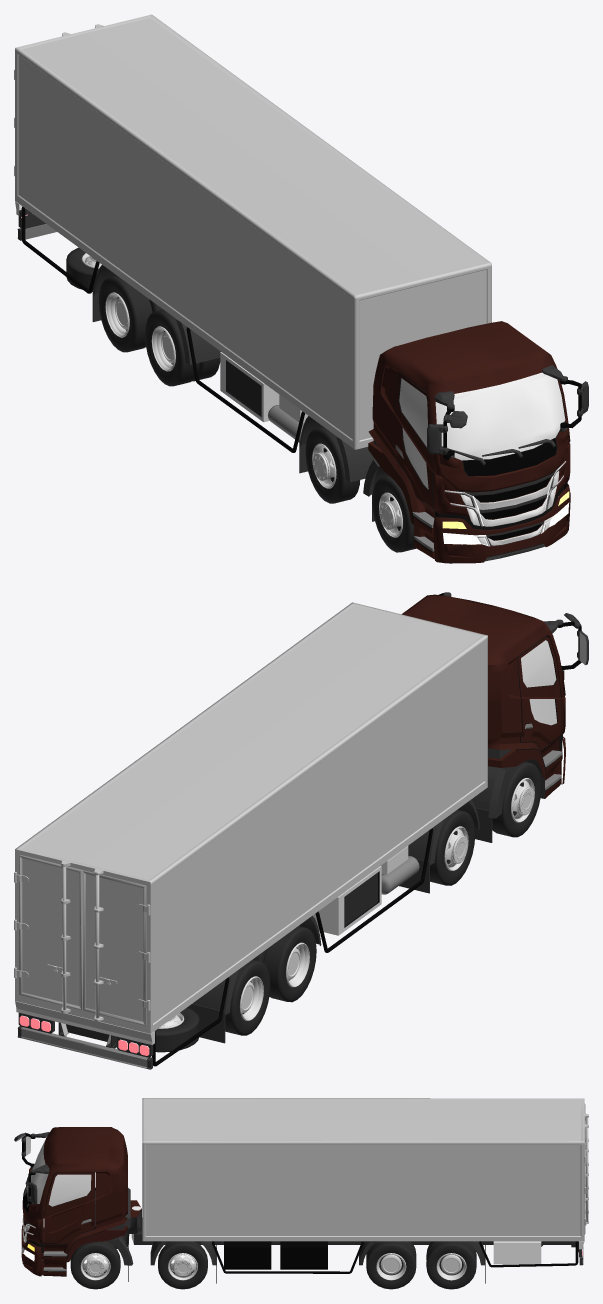
Rendered from truck-animated-v1.glb.
The picture shows the model from 3 angles, top to bottom: view 1: azimuth 30°, elevation 25°; view 2: azimuth 150°, elevation 25°; view 3: azimuth 270°, elevation 25°; orthographic projection. The views are drawn at different scales.
Parts seen in each view (by area): view 1: Truck_body_Truck_body.L_3, Truck_head_Truck_head.L_1, wheels_Circle.006_20, wheels_Circle.010_18, wheels_Circle.028_11, wheels_Circle.027_9, wheels_Circle.007_21, wheels_Circle.009_17, wheels_Circle.029_12, wheels_Circle.026_8; view 2: Truck_body_Truck_body.L_3, Truck_head_Truck_head.L_1, wheels_Circle.010_18, wheels_Circle.027_9, wheels_Circle.028_11, wheels_Circle.006_20, wheels_Circle.007_21, wheels_Circle.009_17, wheels_Circle.029_12, wheels_Circle.026_8; view 3: Truck_body_Truck_body.L_3, Truck_head_Truck_head.L_1, wheels_Circle.013_26, wheels_Circle.008_23, wheels_Circle.025_15, wheels_Circle.001_5, wheels_Circle.014_27, wheels_Circle.002_6, wheels_Circle.012_24, wheels_Circle.024_14.
Part boxes in pixels (bbox=[...]): Truck_body_Truck_body.L_3: bbox=[14, 14, 491, 482]; Truck_head_Truck_head.L_1: bbox=[363, 321, 588, 563]; wheels_Circle.006_20: bbox=[98, 275, 162, 352]; wheels_Circle.010_18: bbox=[145, 309, 220, 386]; wheels_Circle.028_11: bbox=[305, 427, 360, 503]; wheels_Circle.027_9: bbox=[372, 476, 415, 552]; wheels_Circle.007_21: bbox=[105, 292, 129, 337]; wheels_Circle.009_17: bbox=[151, 326, 175, 371]; wheels_Circle.029_12: bbox=[312, 443, 336, 488]; wheels_Circle.026_8: bbox=[379, 492, 402, 537]; Truck_body_Truck_body.L_3: bbox=[14, 602, 487, 1069]; Truck_head_Truck_head.L_1: bbox=[402, 592, 588, 842]; wheels_Circle.010_18: bbox=[253, 926, 316, 1002]; wheels_Circle.027_9: bbox=[492, 761, 541, 837]; wheels_Circle.028_11: bbox=[430, 809, 475, 885]; wheels_Circle.006_20: bbox=[225, 959, 270, 1035]; wheels_Circle.007_21: bbox=[239, 976, 263, 1020]; wheels_Circle.009_17: bbox=[286, 942, 309, 987]; wheels_Circle.029_12: bbox=[444, 826, 468, 870]; wheels_Circle.026_8: bbox=[511, 778, 534, 822]; Truck_body_Truck_body.L_3: bbox=[131, 1098, 588, 1283]; Truck_head_Truck_head.L_1: bbox=[14, 1127, 141, 1281]; wheels_Circle.013_26: bbox=[426, 1241, 476, 1289]; wheels_Circle.008_23: bbox=[366, 1241, 416, 1289]; wheels_Circle.025_15: bbox=[158, 1241, 207, 1289]; wheels_Circle.001_5: bbox=[70, 1241, 120, 1289]; wheels_Circle.014_27: bbox=[436, 1253, 466, 1280]; wheels_Circle.002_6: bbox=[80, 1253, 110, 1280]; wheels_Circle.012_24: bbox=[376, 1253, 406, 1280]; wheels_Circle.024_14: bbox=[168, 1253, 197, 1280].
Size of the model in its own units: 3.45 by 4.51 by 15.91.
